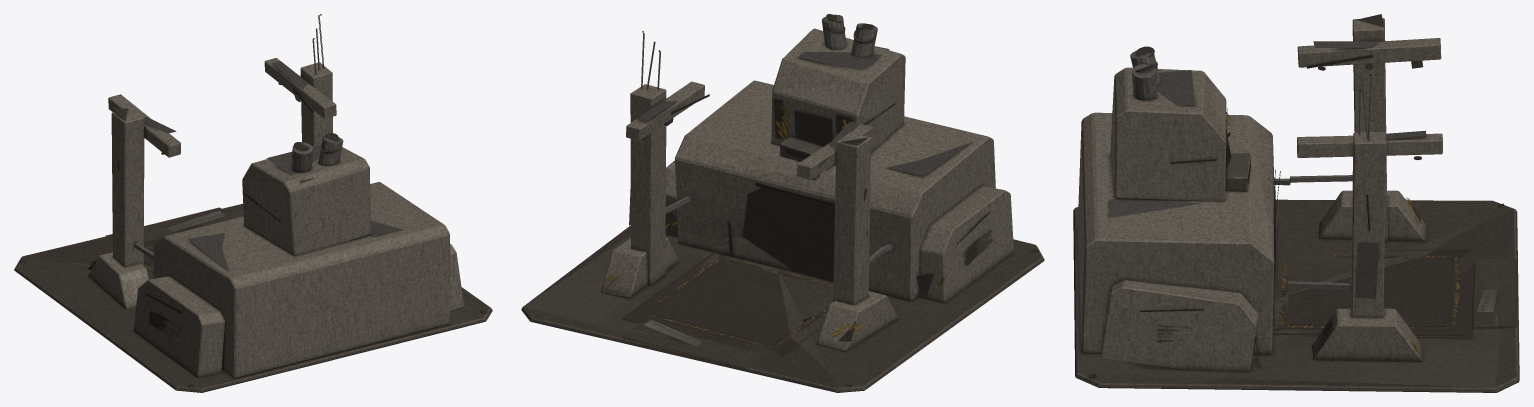
File: ord_gantry_wreck.fbx
3 renders of one model, left to right at view 1: azimuth 30°, elevation 25°; view 2: azimuth 150°, elevation 25°; view 3: azimuth 270°, elevation 25°, orthographic. The views are drawn at different scales.
Parts seen in each view (by area): view 1: base_bar; view 2: base_bar; view 3: base_bar.
Boxes of the visible parts, <box> form: base_bar: <box>14,14,492,392</box>; base_bar: <box>521,14,1044,392</box>; base_bar: <box>1073,14,1519,392</box>.
Size of the model in its own units: 5550 by 4055 by 5563.
2 materials, 2 textured.
